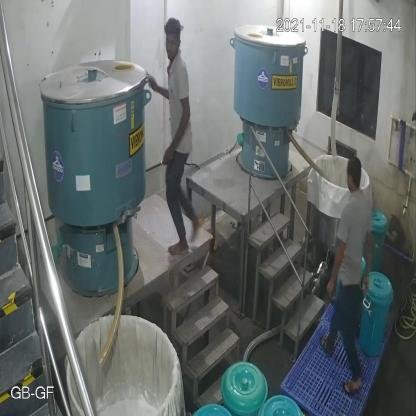no_glove: (322, 236, 352, 300), (162, 108, 185, 169)
no_shoes: (165, 236, 190, 258), (344, 378, 363, 400)
